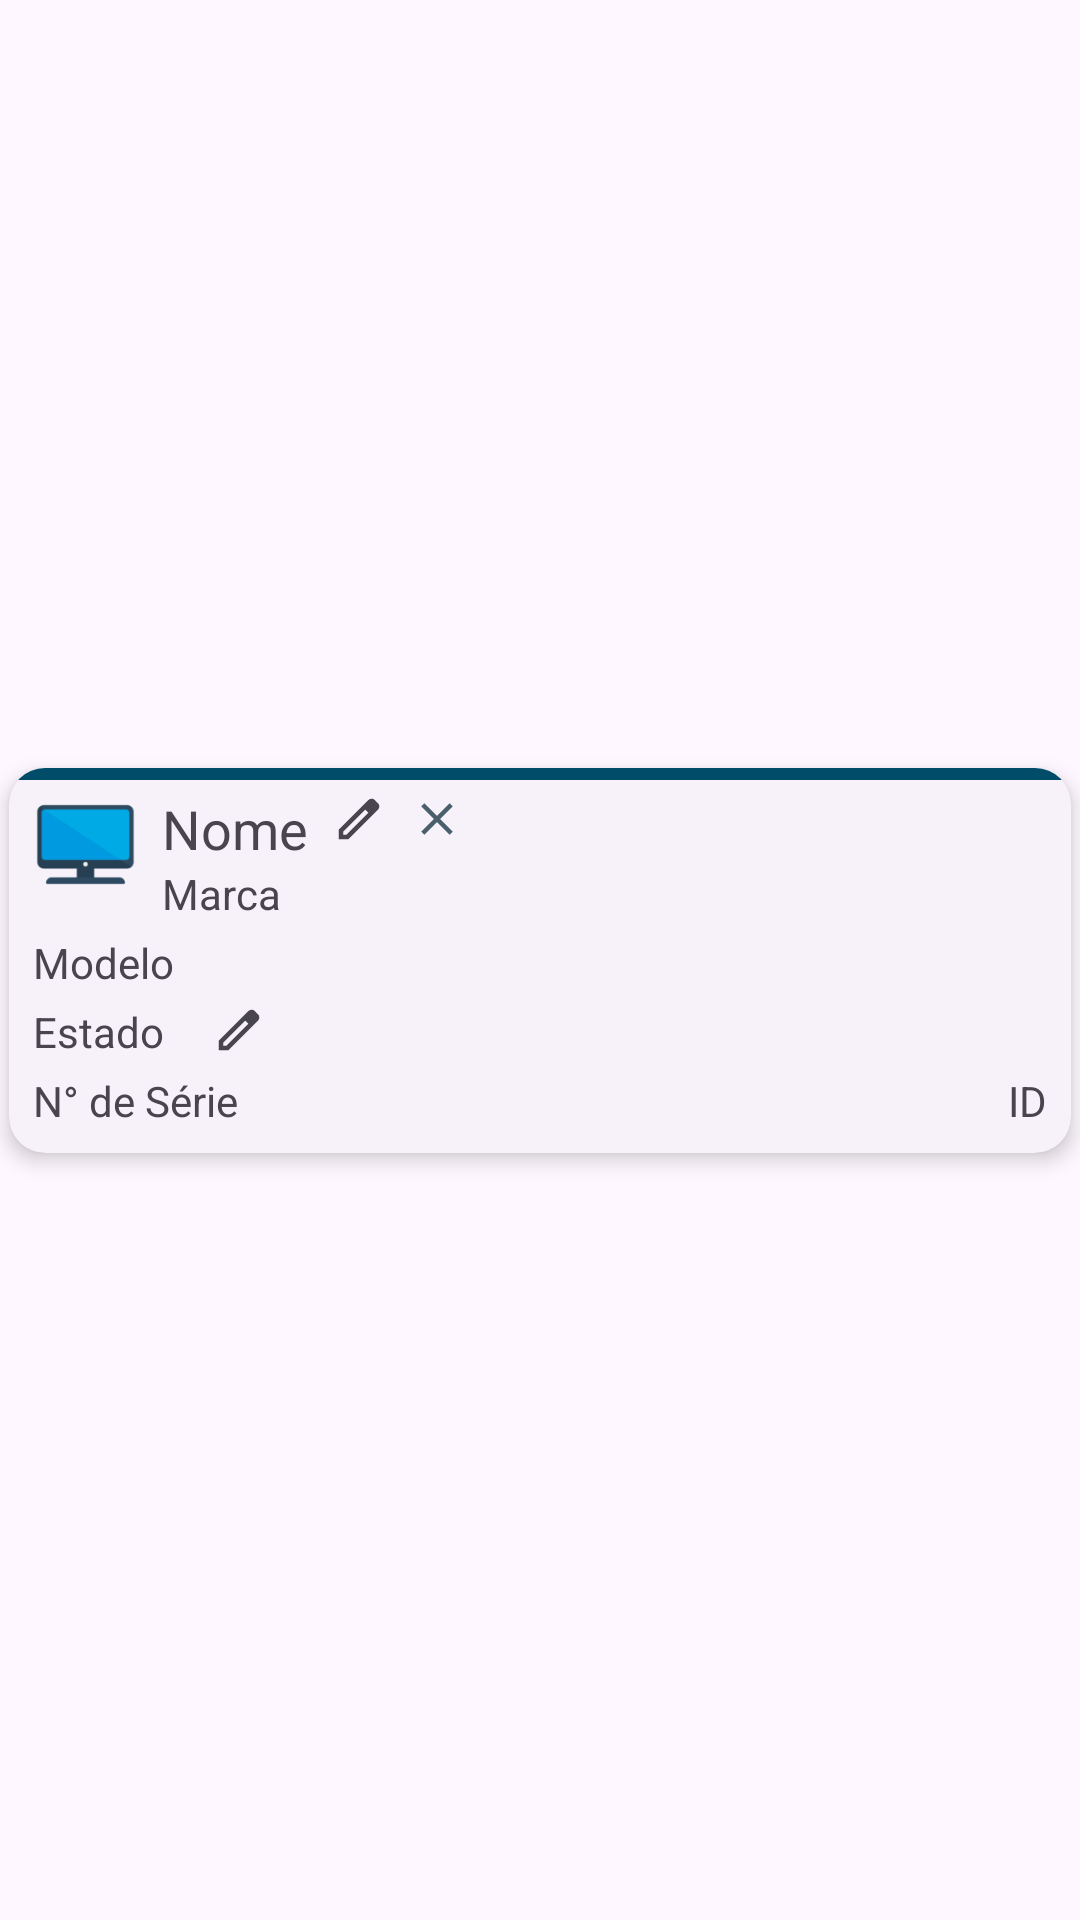

Named icons in this screenshot (1080*1920) and their centers, [x,y]:
close: [437,819]
edit: [359,819], [239,1030]
monitor: [85,844]
